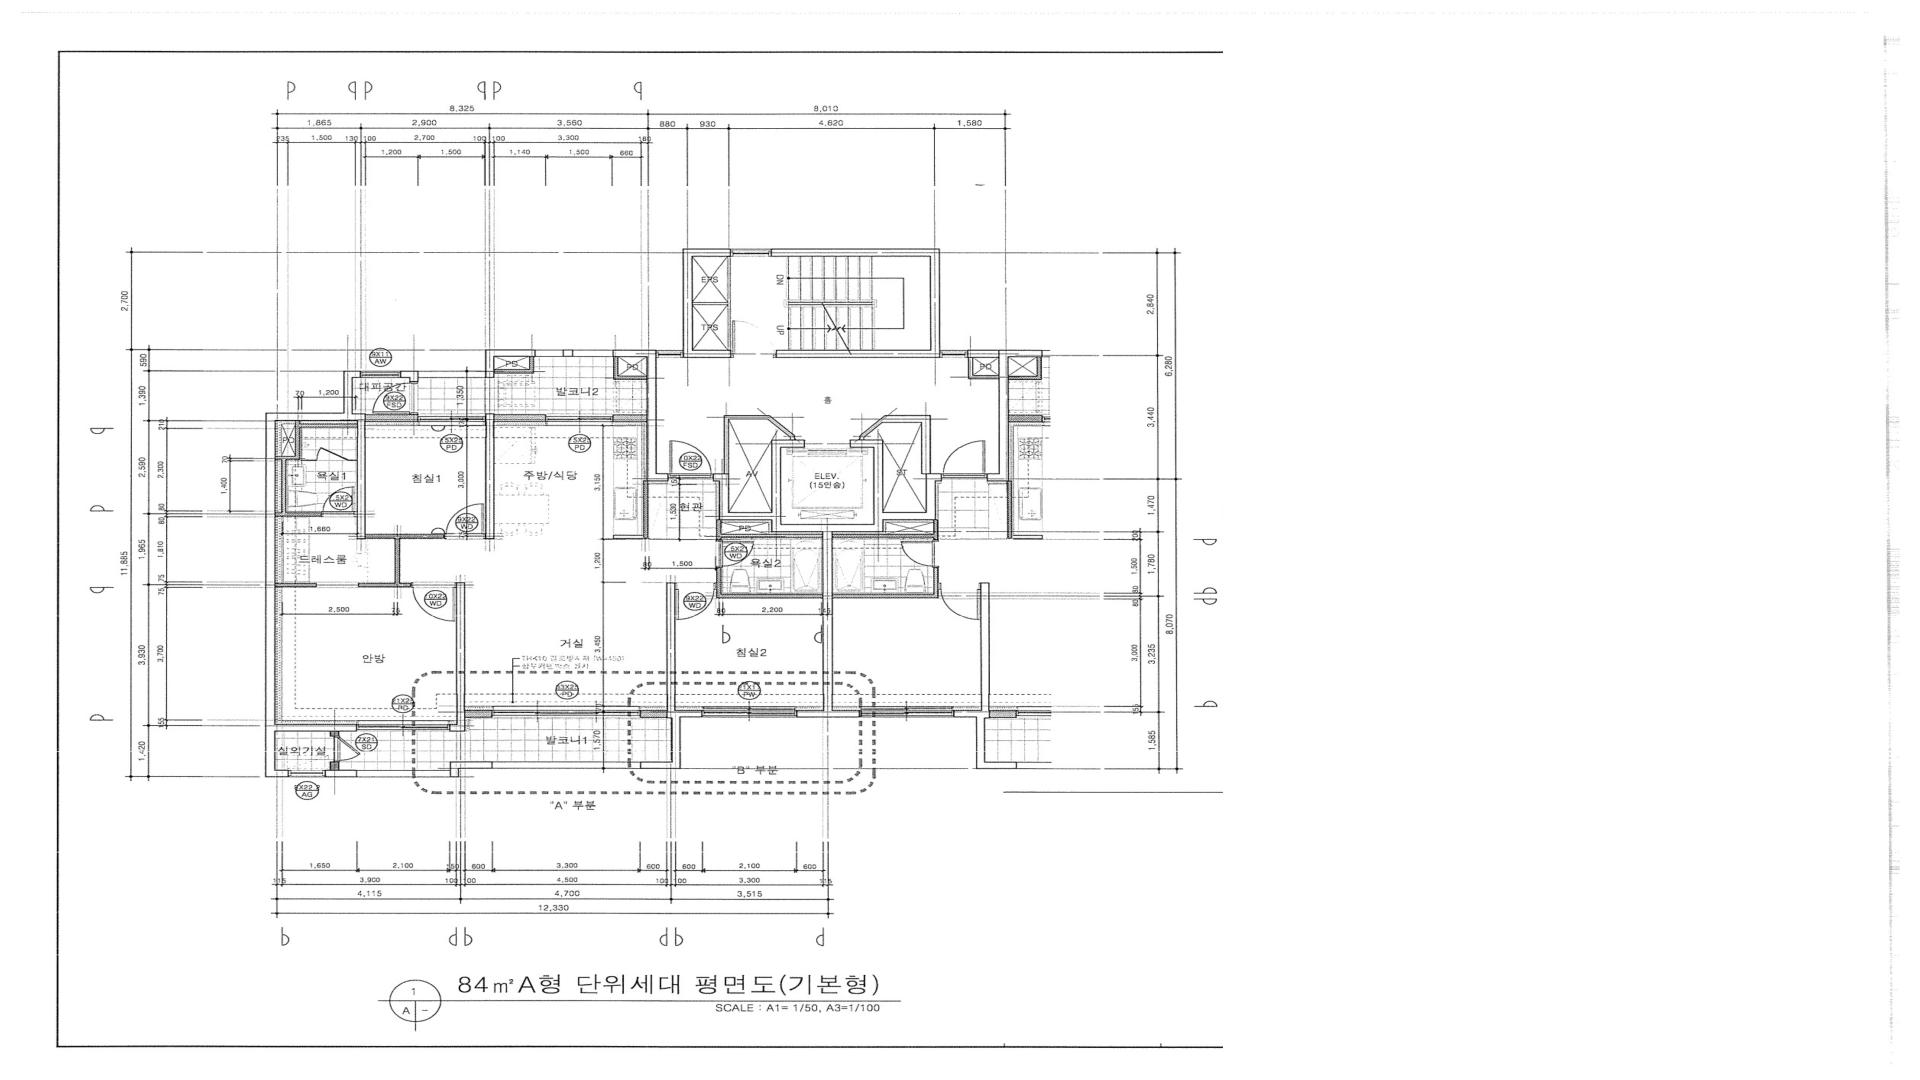door: (411, 583, 456, 622), (667, 440, 713, 477), (675, 583, 717, 621), (732, 320, 775, 357), (443, 502, 485, 539), (372, 382, 418, 414), (322, 487, 357, 517), (716, 541, 754, 567), (330, 736, 361, 761)
wall: (712, 439, 942, 717), (265, 371, 365, 778), (770, 249, 940, 357), (640, 583, 703, 769), (276, 421, 357, 517), (485, 414, 546, 539), (612, 349, 669, 481), (450, 583, 492, 732), (967, 349, 1009, 481), (683, 248, 732, 357), (359, 534, 443, 587), (858, 414, 931, 473), (724, 415, 795, 473), (716, 567, 823, 599), (716, 520, 823, 541), (613, 480, 649, 539), (485, 349, 535, 378), (613, 357, 647, 380), (495, 356, 534, 373), (450, 761, 492, 777), (968, 359, 998, 380), (365, 414, 418, 422), (612, 414, 646, 422), (324, 770, 357, 778), (400, 371, 418, 382), (640, 709, 666, 717), (276, 583, 316, 587), (330, 761, 340, 770), (563, 349, 574, 357), (330, 732, 340, 737)
window: (492, 705, 640, 717), (492, 761, 640, 769), (703, 705, 796, 717), (357, 720, 450, 732), (546, 414, 613, 426), (418, 414, 485, 426), (357, 770, 450, 778), (418, 371, 485, 378), (731, 248, 770, 257), (574, 349, 612, 357), (361, 371, 400, 378), (289, 770, 326, 778), (657, 349, 683, 359), (535, 349, 563, 357), (940, 349, 967, 357)
